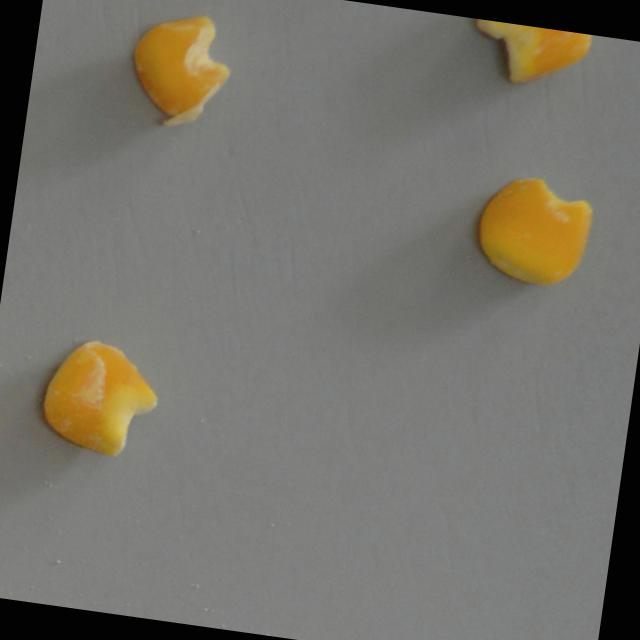no_canjicado: (469, 170, 596, 290)
pelicula: (34, 335, 165, 462), (124, 9, 237, 129), (467, 19, 594, 95)
